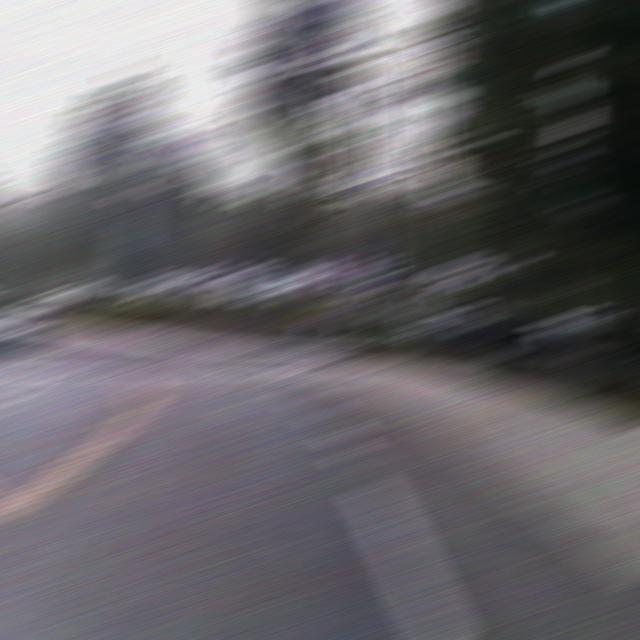stop: (315, 258, 355, 282)
